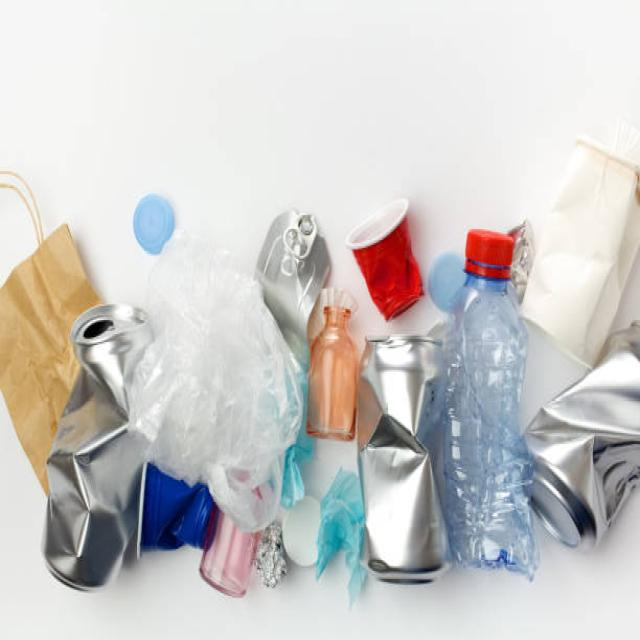metal: (360, 328, 458, 587), (70, 304, 134, 602), (553, 329, 618, 579), (254, 192, 335, 302)
plastic: (462, 242, 544, 571), (154, 304, 268, 505)
